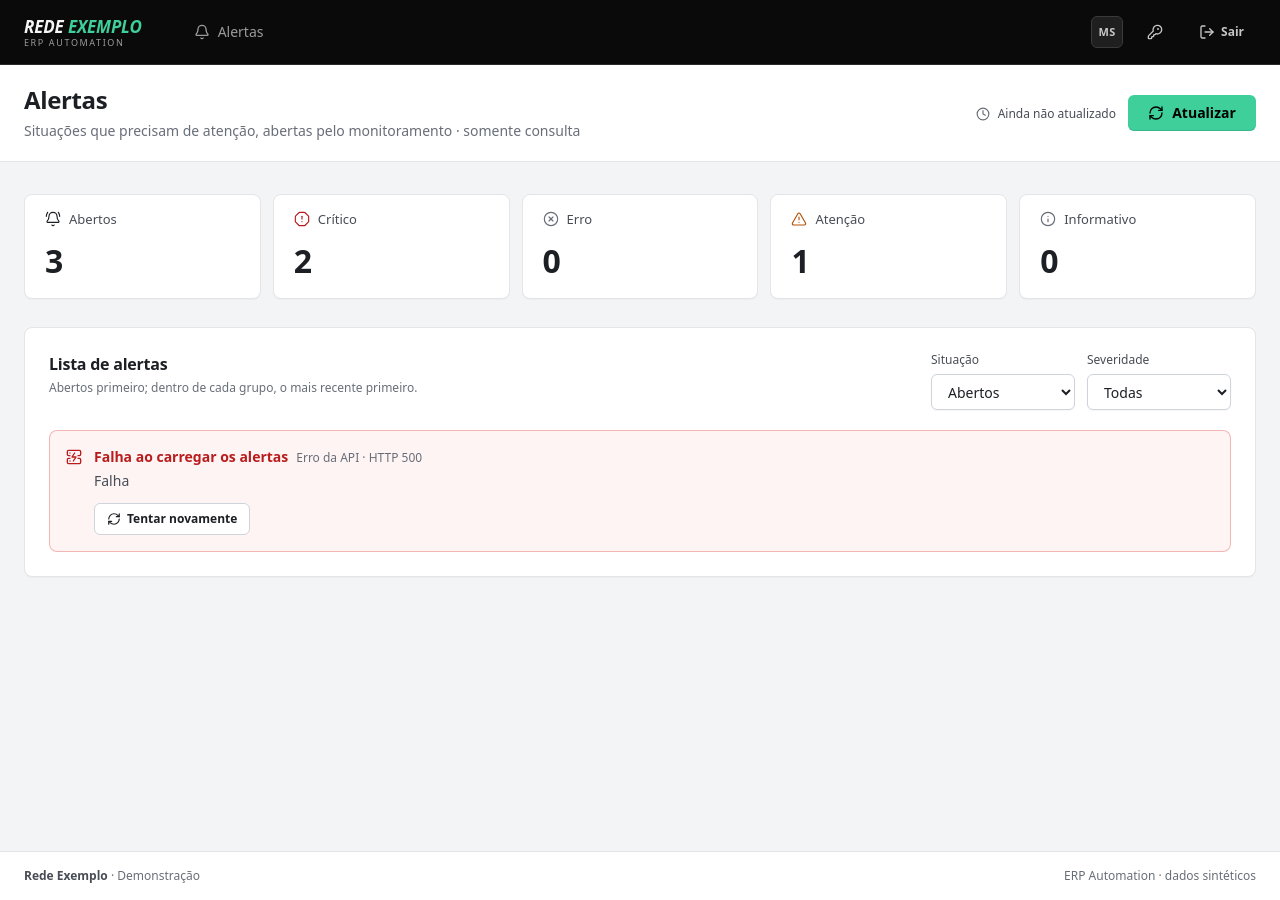
it: AlertasPage › erro da API mostra a falha com opção de tentar de novo
The width and height of the screenshot is (1280, 900).
Check: the text "Falha ao carregar os alertas" is shown, box [94,447,288,466]
Click the button "Tentar novamente". click: [172, 519]
box: [94,503,250,535]
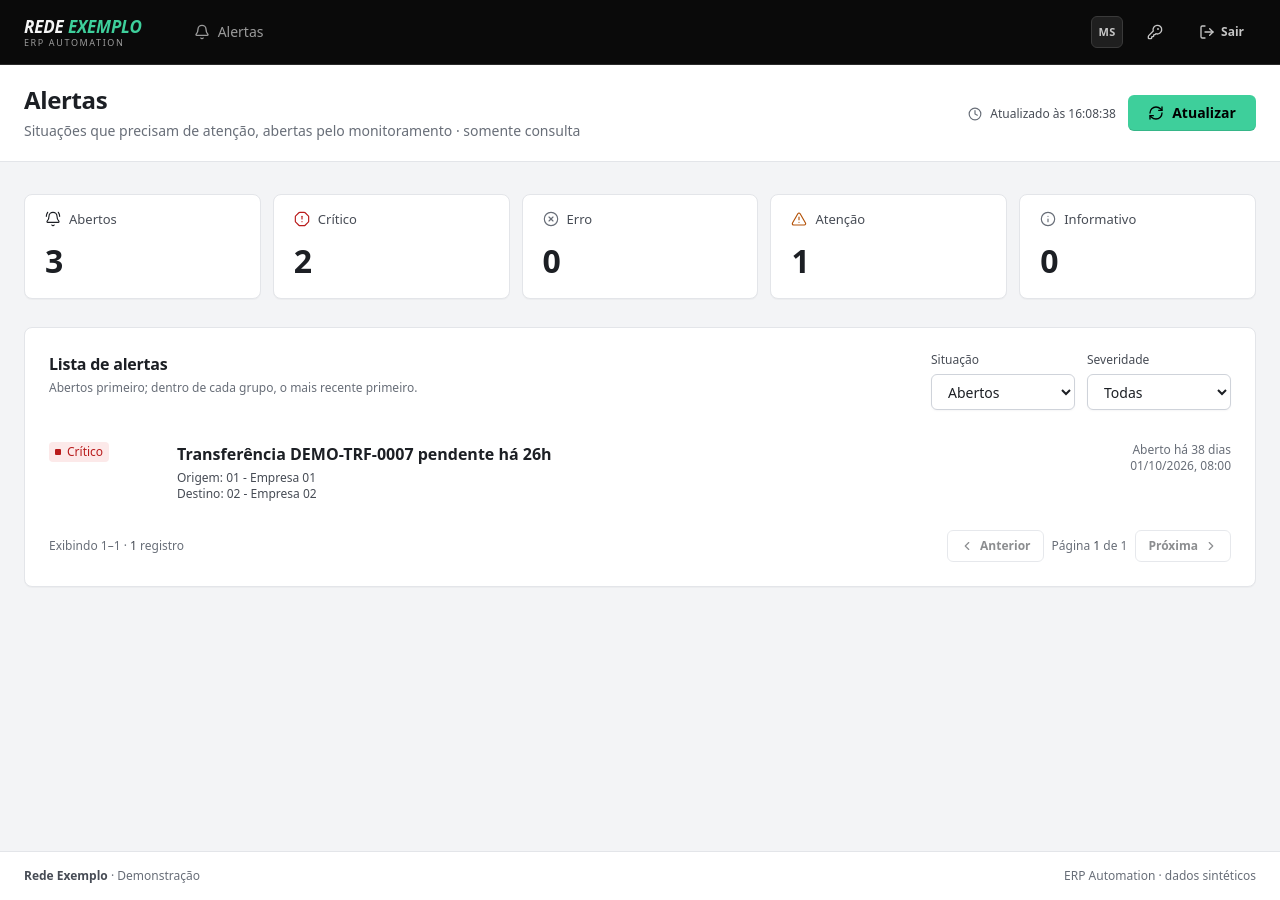
Check: the text "Transferência DEMO-TRF-0007 pendente há 26h" is shown, box [177,443,552,465]
